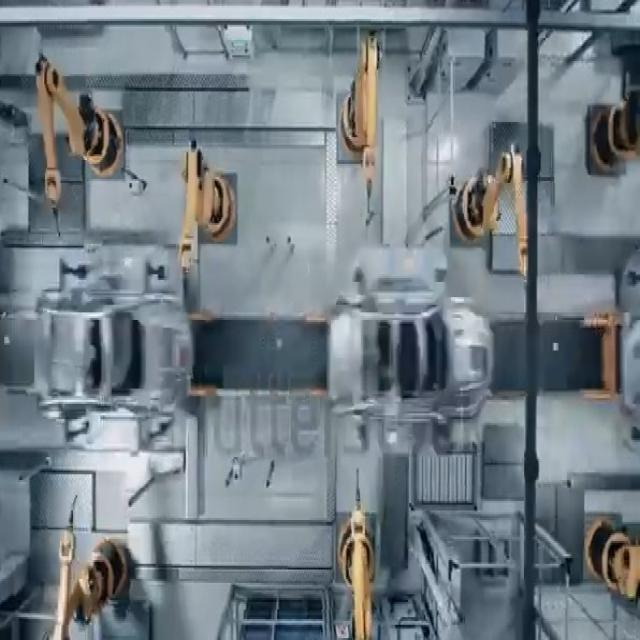auto: (323, 270, 497, 440), (22, 282, 219, 416)
robot: (32, 37, 131, 203), (39, 487, 141, 632), (442, 154, 532, 284), (175, 132, 243, 264), (328, 482, 384, 640), (328, 52, 389, 193), (574, 498, 640, 614)
